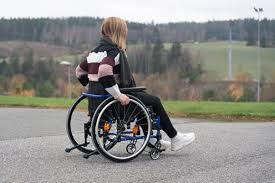wheelchair: (64, 16, 195, 163)
